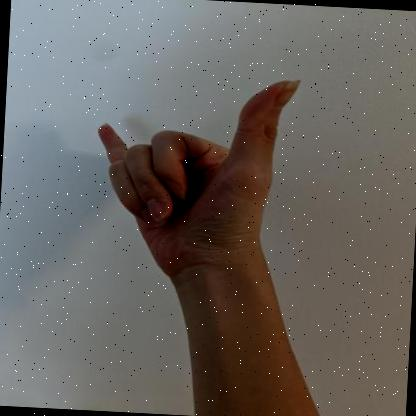Y: (97, 79, 300, 282)
